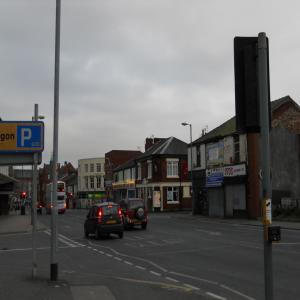Vehicle-registration-plate: (107, 220, 117, 225), (134, 222, 143, 227)
